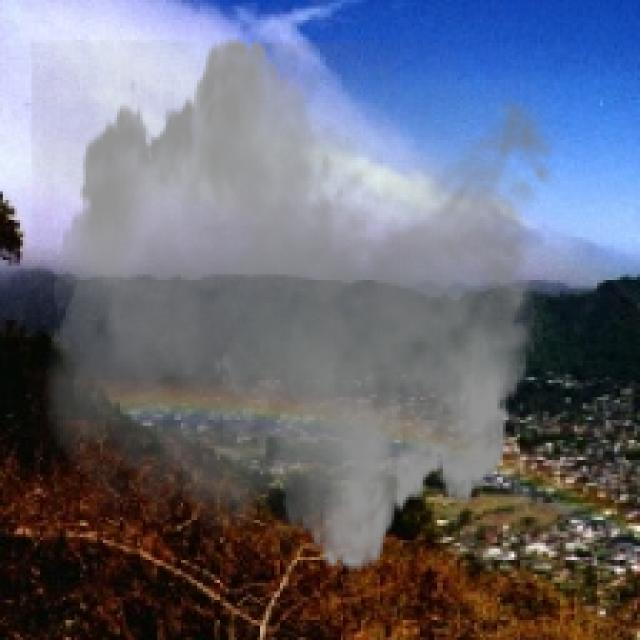smoke: (31, 20, 572, 589)
